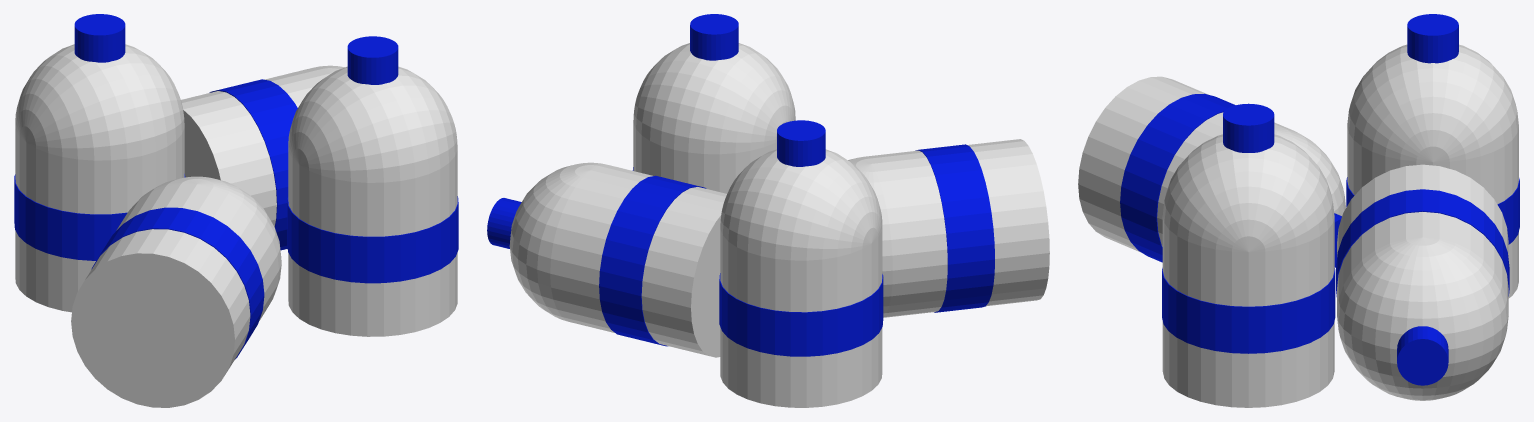
Rendered from Boobtles.fbx.
The picture shows the model from 3 angles, left to right: view 1: azimuth 30°, elevation 25°; view 2: azimuth 150°, elevation 25°; view 3: azimuth 270°, elevation 25°; orthographic projection. The views are drawn at different scales.
Parts seen in each view (by area): view 1: Cylinder.004, Cylinder.001, Cylinder.002, Cylinder.003; view 2: Cylinder.002, Cylinder.003, Cylinder.001, Cylinder.004; view 3: Cylinder.004, Cylinder.003, Cylinder.002, Cylinder.001.
Boxes of the visible parts, x1=… form: Cylinder.004: x1=287, y1=36, x2=458, y2=336; Cylinder.001: x1=71, y1=176, x2=281, y2=407; Cylinder.002: x1=14, y1=14, x2=185, y2=312; Cylinder.003: x1=181, y1=65, x2=344, y2=250; Cylinder.002: x1=719, y1=120, x2=883, y2=407; Cylinder.003: x1=487, y1=162, x2=726, y2=357; Cylinder.001: x1=848, y1=139, x2=1049, y2=317; Cylinder.004: x1=632, y1=14, x2=795, y2=193; Cylinder.004: x1=1162, y1=103, x2=1335, y2=407; Cylinder.003: x1=1336, y1=164, x2=1509, y2=400; Cylinder.002: x1=1346, y1=14, x2=1519, y2=298; Cylinder.001: x1=1078, y1=76, x2=1345, y2=267.
Bounding box in the file's own units: 632 × 331 × 514.
